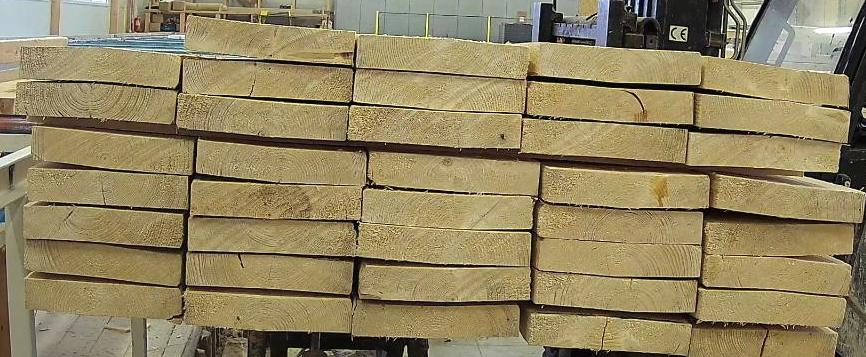Wood-Plank: (185, 14, 357, 64), (175, 93, 349, 140), (197, 138, 367, 186), (31, 125, 194, 174), (368, 150, 541, 196), (703, 55, 852, 108), (357, 33, 530, 78), (357, 222, 532, 266), (182, 57, 353, 102), (353, 68, 527, 112), (350, 104, 522, 148), (24, 239, 184, 286), (523, 117, 689, 162), (23, 202, 185, 248), (696, 94, 851, 142), (711, 174, 866, 222), (530, 41, 703, 84), (184, 288, 353, 332), (527, 80, 695, 124), (535, 201, 705, 244), (358, 260, 531, 302), (27, 163, 188, 208), (363, 188, 535, 230), (25, 272, 182, 318), (190, 178, 361, 220), (541, 166, 711, 208), (533, 236, 702, 278), (529, 313, 693, 356), (186, 252, 353, 294), (532, 270, 699, 312), (19, 45, 180, 88), (15, 80, 177, 122), (188, 216, 357, 256), (351, 299, 520, 338), (703, 254, 853, 296), (688, 132, 843, 172), (697, 288, 847, 326), (704, 222, 855, 256), (690, 324, 840, 357)
